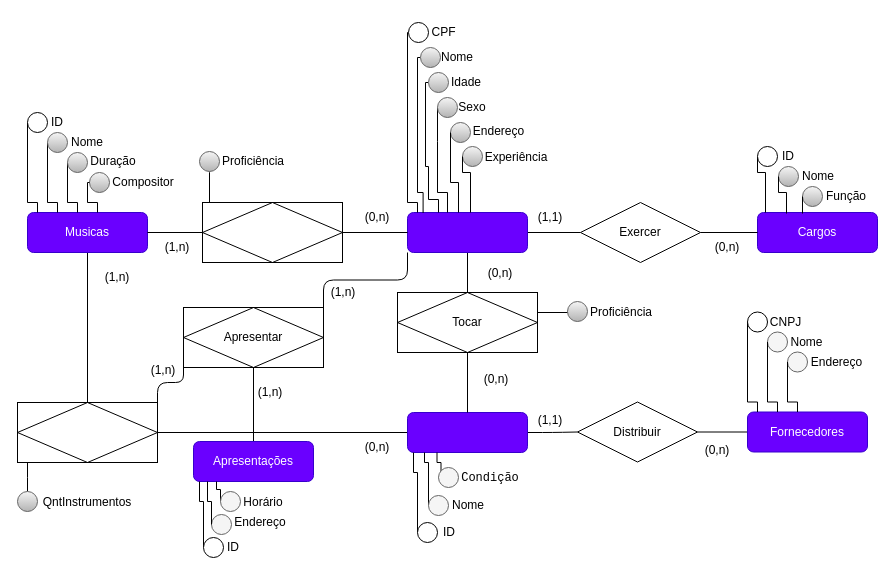
Some shapes in this 895 by 579 pixel diagram are drawn without their labels. Here are the shapes that lost their labels. From the top down, the box of each, then its label:
(202, 202, 342, 262): Saber
(406, 212, 528, 252): Integrantes
(16, 402, 158, 462): Composição
(406, 412, 528, 452): Instrumentos
